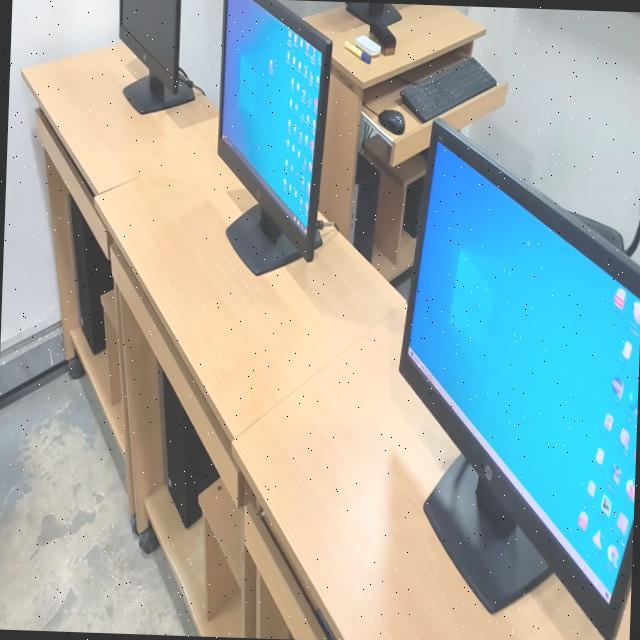Cpu: (160, 371, 218, 525), (68, 195, 112, 352), (349, 152, 378, 260)
Keyboard: (399, 56, 496, 121)
Monitor: (398, 118, 640, 640), (217, 0, 331, 271), (119, 0, 192, 111)
Mouse: (377, 108, 404, 133)
